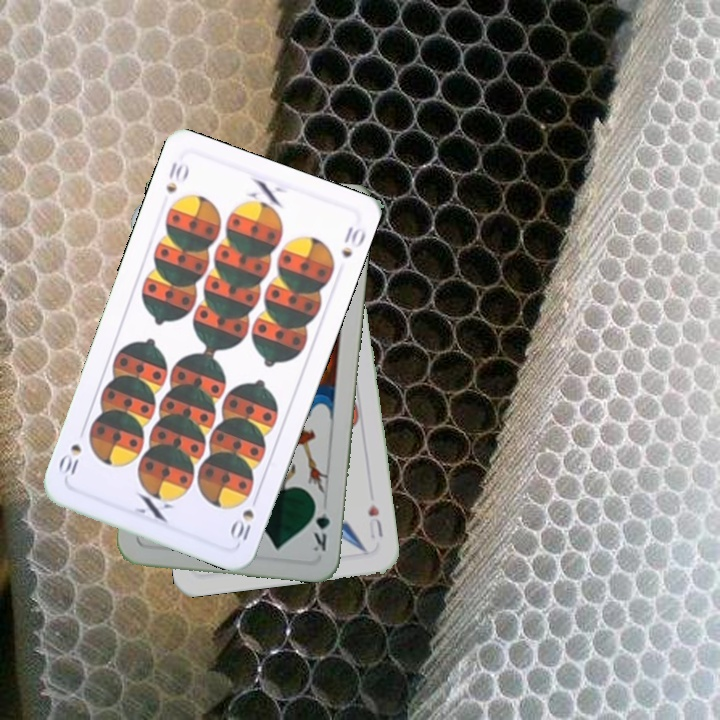GK: (309, 497, 333, 554)
HU: (364, 500, 385, 542)
S10: (226, 490, 262, 545), (162, 158, 192, 197)
